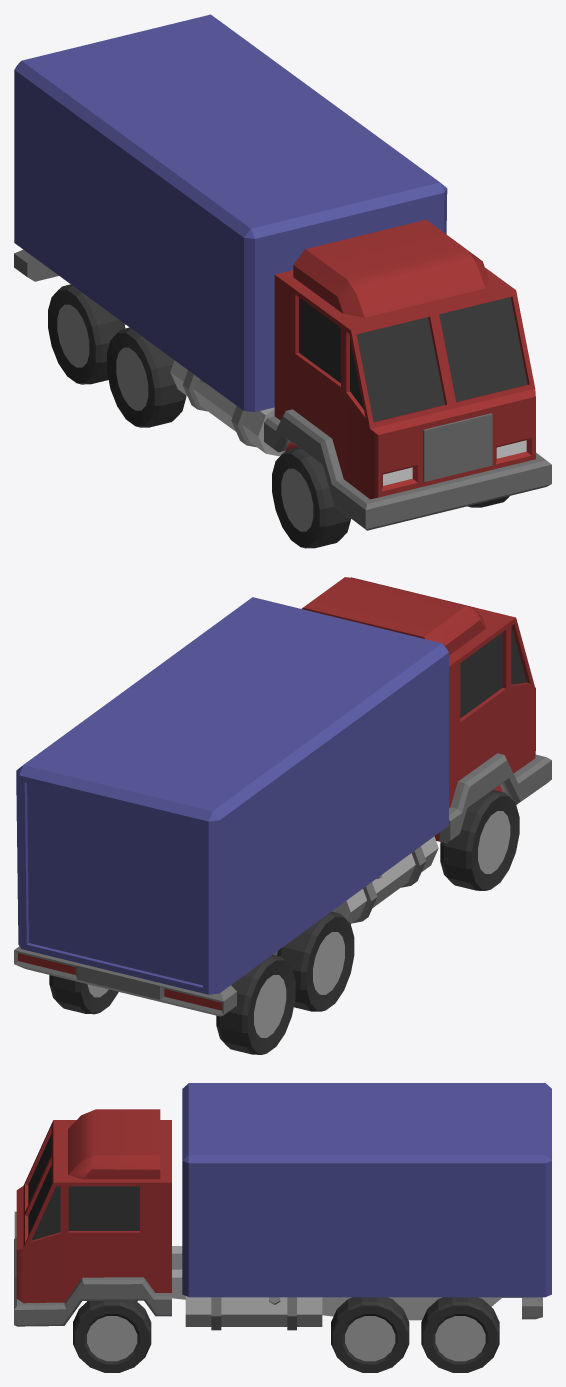
The model's file is Gruzovik_V1.fbx.
The picture shows the model from 3 angles, top to bottom: view 1: azimuth 30°, elevation 25°; view 2: azimuth 150°, elevation 25°; view 3: azimuth 270°, elevation 25°; orthographic projection. The views are drawn at different scales.
Parts seen in each view (by area): view 1: Gruzovik_V1; view 2: Gruzovik_V1; view 3: Gruzovik_V1.
Part boxes in pixels (<box>): Gruzovik_V1: <box>14,14,551,548</box>; Gruzovik_V1: <box>14,577,551,1054</box>; Gruzovik_V1: <box>14,1083,551,1372</box>.
Size of the model in its own units: 5.07 by 6.47 by 14.48.
